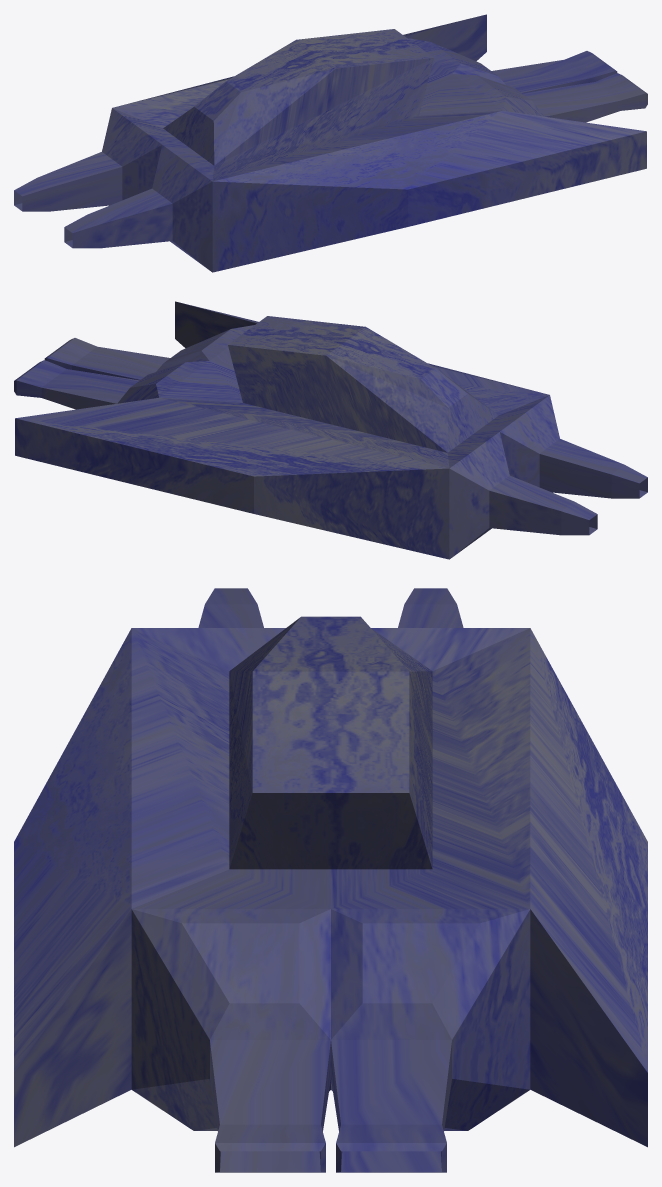
Rendered from Spaceship.FBX.
3 renders of one model, top to bottom at view 1: azimuth 30°, elevation 25°; view 2: azimuth 150°, elevation 25°; view 3: azimuth 270°, elevation 25°, orthographic. The views are drawn at different scales.
Visible parts, largest first — view 1: Box001; view 2: Box001; view 3: Box001.
Boxes of the visible parts, <box> form: Box001: <box>14,14,647,272</box>; Box001: <box>14,301,647,559</box>; Box001: <box>14,588,647,1172</box>.
Bounding box in the file's own units: 99.37 × 25.2 × 47.68.
